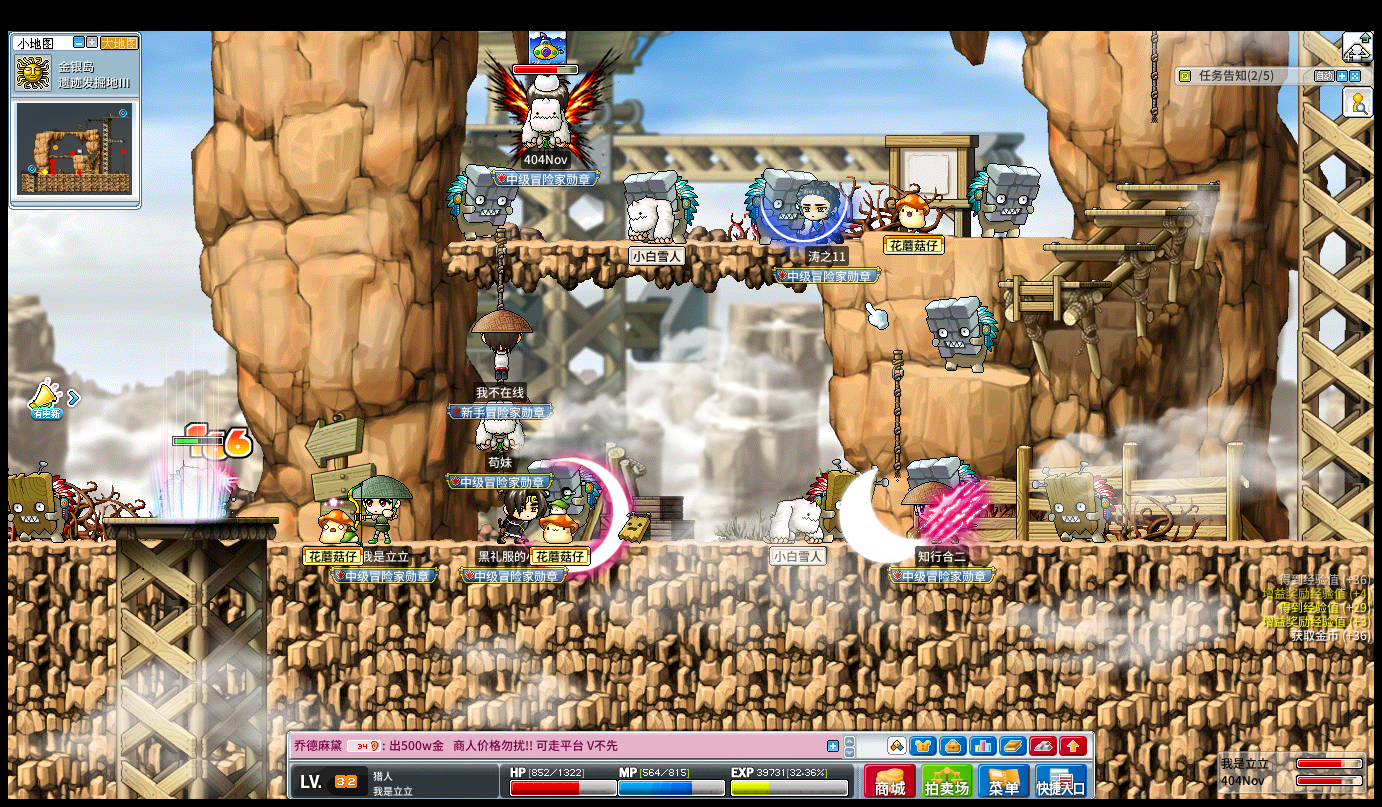floor: (267, 540, 1373, 554), (446, 239, 823, 253), (876, 232, 1070, 241), (102, 516, 279, 523), (998, 280, 1112, 289), (8, 540, 117, 549), (1043, 244, 1156, 252), (1084, 209, 1196, 216), (1115, 184, 1219, 191)
monster: (1033, 461, 1118, 543), (446, 164, 520, 241), (925, 296, 999, 373), (8, 461, 76, 543), (968, 163, 1041, 238), (744, 168, 798, 245), (809, 460, 889, 501), (622, 170, 699, 199), (907, 457, 979, 483)
rope: (893, 350, 903, 478), (495, 228, 506, 310), (1146, 31, 1155, 123)
